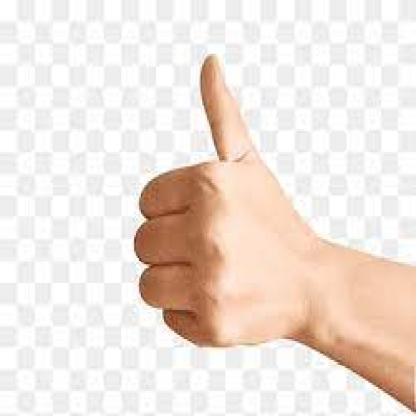thumb_up: (135, 51, 311, 350)
